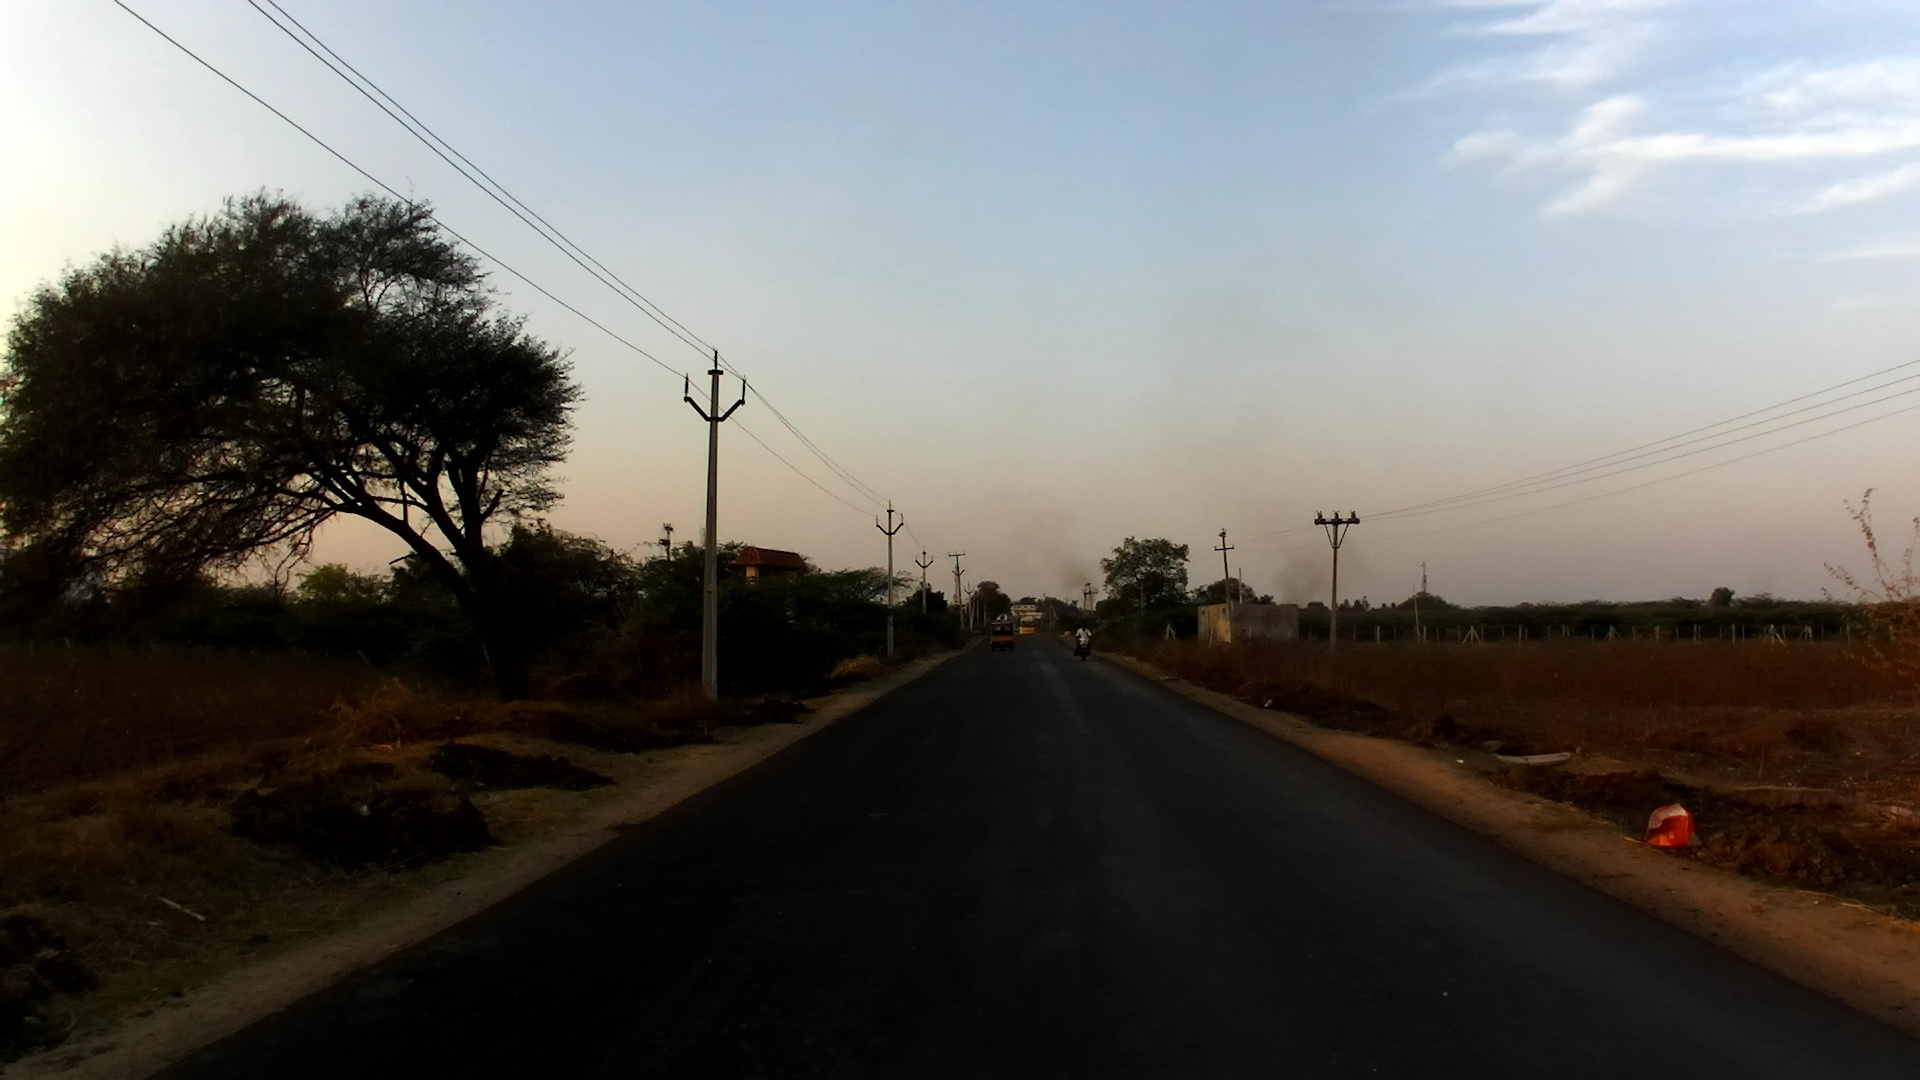bus: (1017, 616, 1039, 639)
car: (988, 613, 1017, 651)
motorcycle: (1072, 631, 1091, 664)
rider: (1074, 622, 1092, 657)
